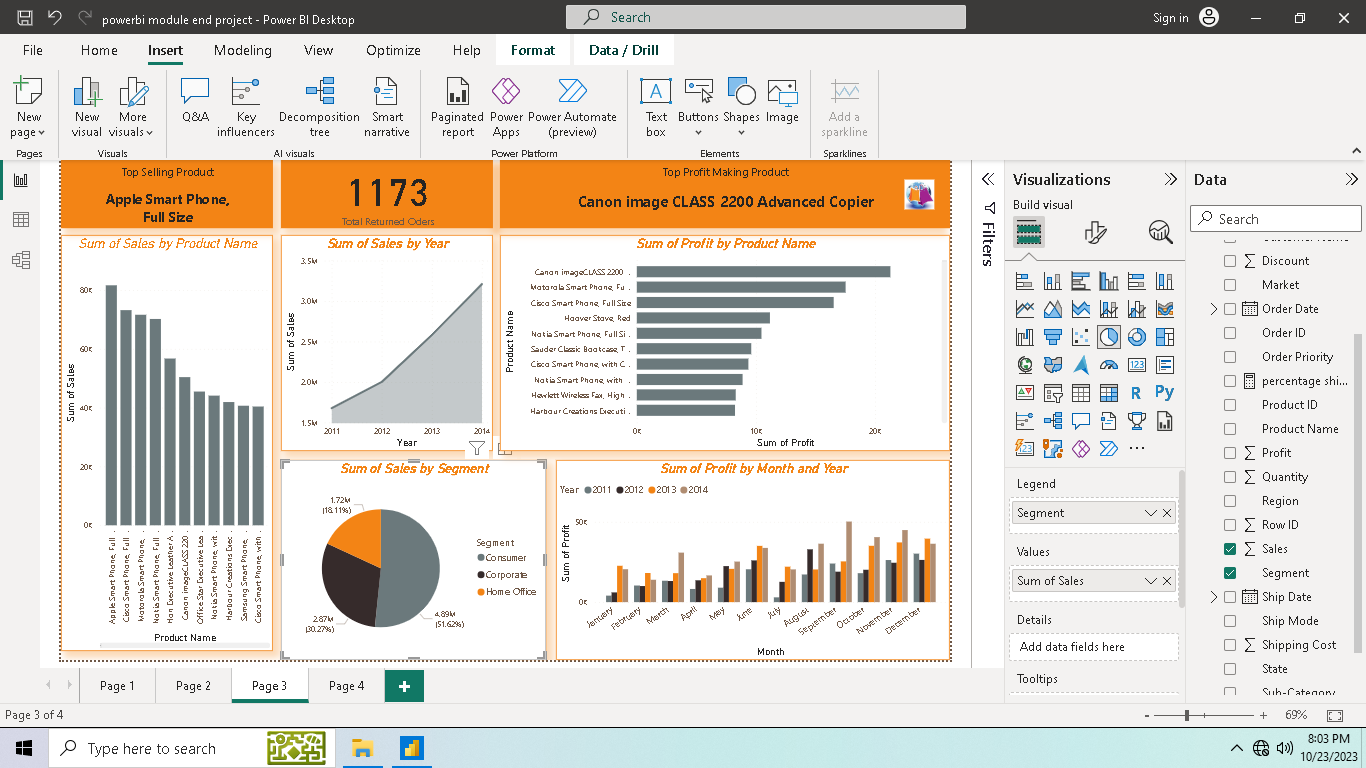

The page's visual inventory and layout, read from the dashboard file:
{"tool":"powerbi","page":{"name":"Page 3","canvas":[1280,720],"ordinal":2},"visuals":[{"type":"columnChart","fields":{"Category":["Orders.Product Name"],"Y":["Sum(Orders.Sales)"]},"box":[0,108,305.3,599],"z":0},{"type":"textbox","box":[0,0,305.3,97.9],"z":1000},{"type":"card","fields":{"Values":["Returns.Total Returned Oders"]},"box":[316.8,0,305.3,97.9],"z":2000},{"type":"areaChart","fields":{"Category":["Orders.Order Date.Variation.Date Hierarchy.Year"],"Y":["Sum(Orders.Sales)"]},"box":[316.8,108,305.3,311],"z":3000},{"type":"pieChart","fields":{"Category":["Orders.Segment"],"Y":["Sum(Orders.Sales)"]},"box":[316.8,432,381.6,288],"z":4000},{"type":"barChart","fields":{"Category":["Orders.Product Name"],"Y":["Sum(Orders.Profit)"]},"box":[632.2,108,648,311],"z":5000},{"type":"textbox","box":[632.2,0,648,97.9],"z":6000},{"type":"clusteredColumnChart","fields":{"Y":["Sum(Orders.Profit)"],"Series":["Orders.Order Date.Variation.Date Hierarchy.Year"],"Category":["Orders.Order Date.Variation.Date Hierarchy.Month","Orders.Order Date.Variation.Date Hierarchy.Day"]},"box":[712.8,432,567.4,288],"z":7000},{"type":"image","box":[1209.6,20.2,53.3,57.6],"z":8000}]}

Visuals, with their boxes on the page's 1280x720 design canvas (x1, y1, x2, y2). These are canvas units, not pixel positions in the 1366x768 screenshot, which may show the page scaled, cropped or inside an application window:
columnChart - Orders.Product Name x Sum(Orders.Sales): (0,108,305,707)
textbox: (0,0,305,98)
card - Returns.Total Returned Oders: (317,0,622,98)
areaChart - Orders.Order Date.Variation.Date Hierarchy.Year x Sum(Orders.Sales): (317,108,622,419)
pieChart - Orders.Segment x Sum(Orders.Sales): (317,432,698,720)
barChart - Orders.Product Name x Sum(Orders.Profit): (632,108,1280,419)
textbox: (632,0,1280,98)
clusteredColumnChart - Sum(Orders.Profit) x Orders.Order Date.Variation.Date Hierarchy.Year: (713,432,1280,720)
image: (1210,20,1263,78)
